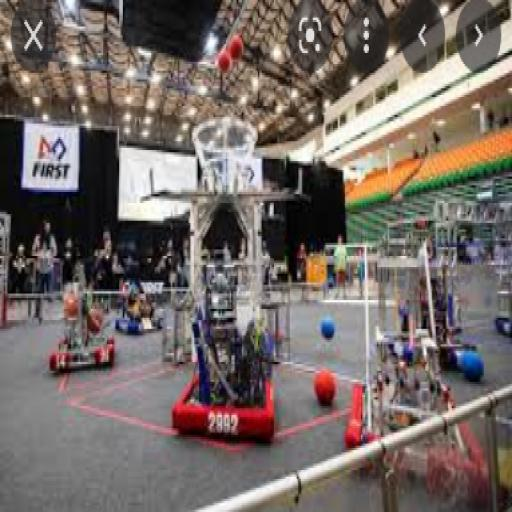robot: (341, 242, 495, 496), (168, 282, 277, 442), (384, 236, 486, 382), (49, 267, 115, 377), (116, 276, 164, 338)
